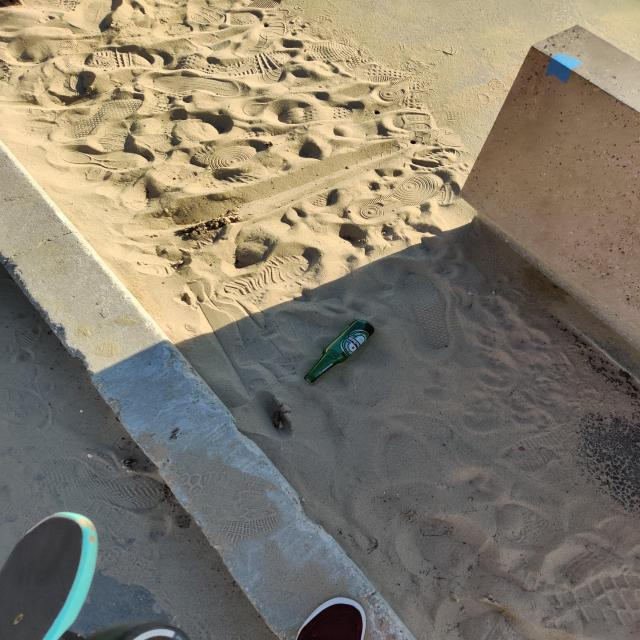litter: (297, 313, 385, 386)
